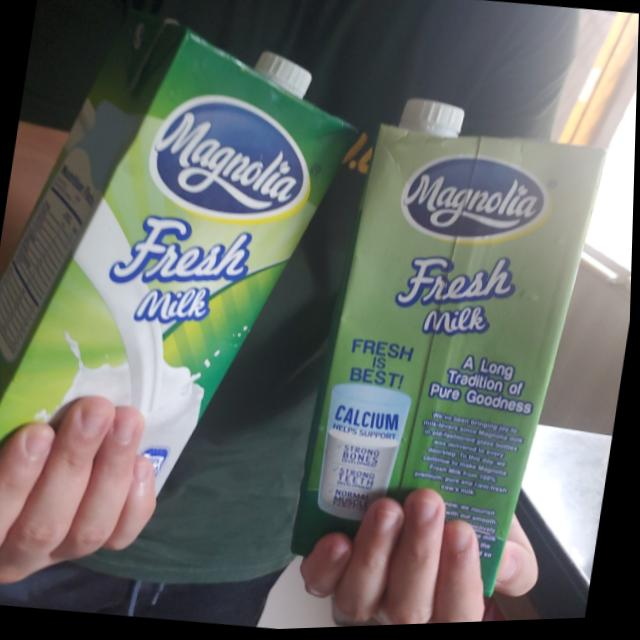milk: (0, 0, 363, 518), (283, 93, 611, 617)
